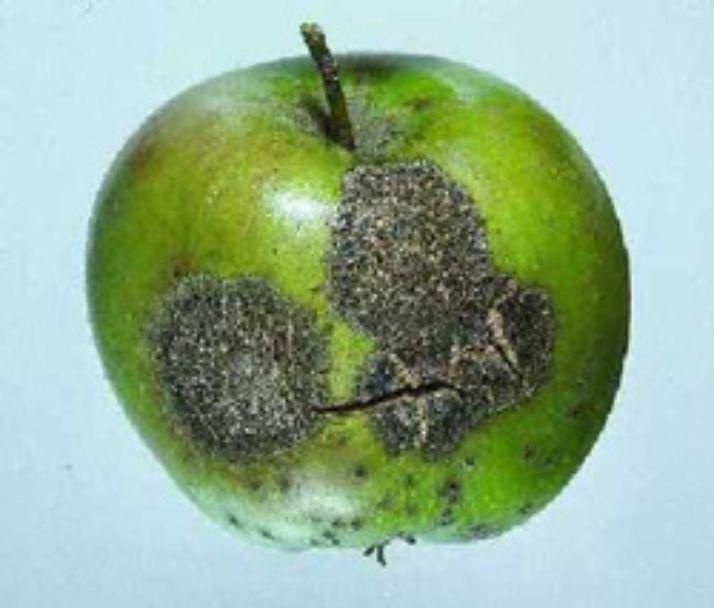SCAB: (55, 34, 639, 587)
